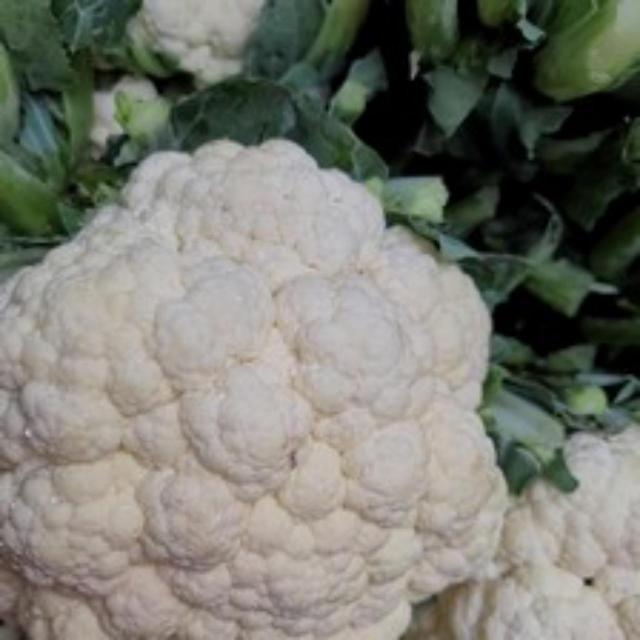cauliflower: (0, 125, 522, 636)
